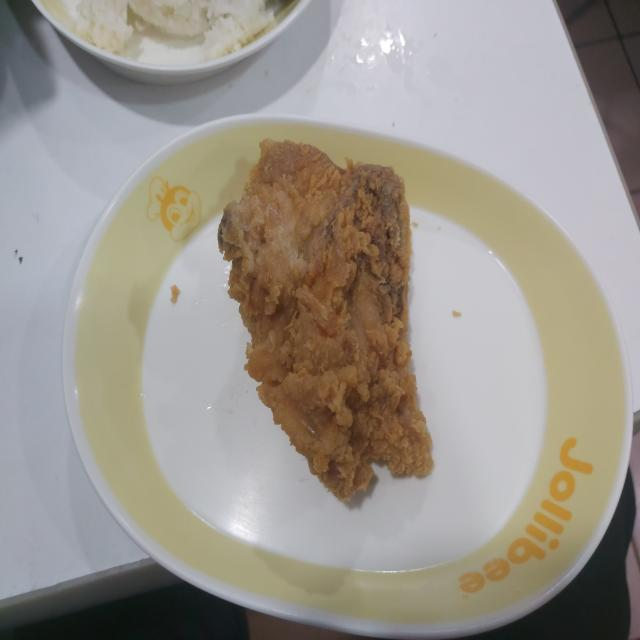Chicken -Fried Chicken-: (208, 135, 456, 525)
